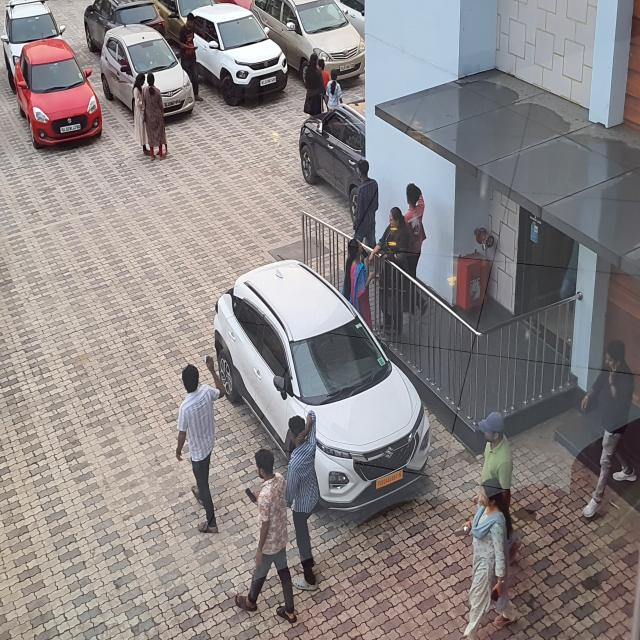humans: (169, 350, 230, 544), (234, 445, 300, 624), (277, 407, 328, 596), (366, 205, 410, 338), (340, 236, 378, 335), (178, 11, 206, 104), (402, 182, 427, 282), (144, 72, 166, 163), (304, 51, 328, 118), (132, 71, 150, 159), (327, 66, 341, 112), (318, 57, 330, 89)
